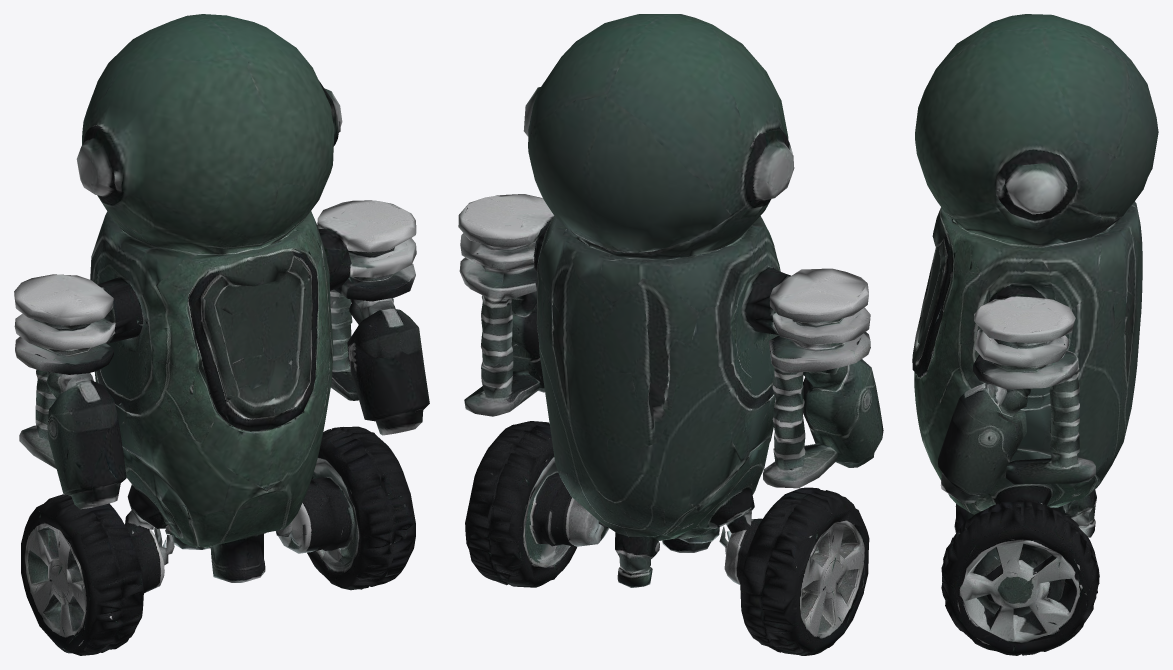
The model's file is dotdashCourierPod.ba46ab62.glb.
3 views of the same model, side by side, from view 1: azimuth 30°, elevation 25°; view 2: azimuth 150°, elevation 25°; view 3: azimuth 270°, elevation 25° (orthographic). The views are drawn at different scales.
Bounding box in the file's own units: 1.32 × 1.9 × 0.7575.
Materials: 1 (1 with a texture image).
